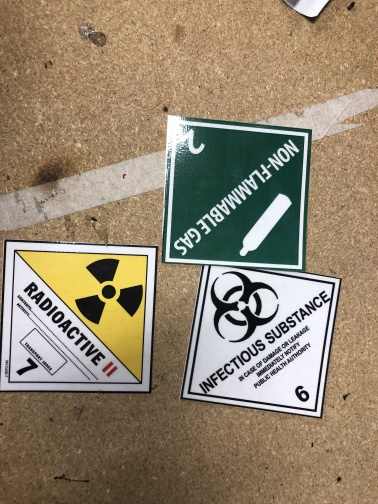InfectiousSubstance: (179, 265, 341, 419)
NonFlammableGas: (161, 116, 312, 272)
Radioactive: (3, 241, 158, 394)
